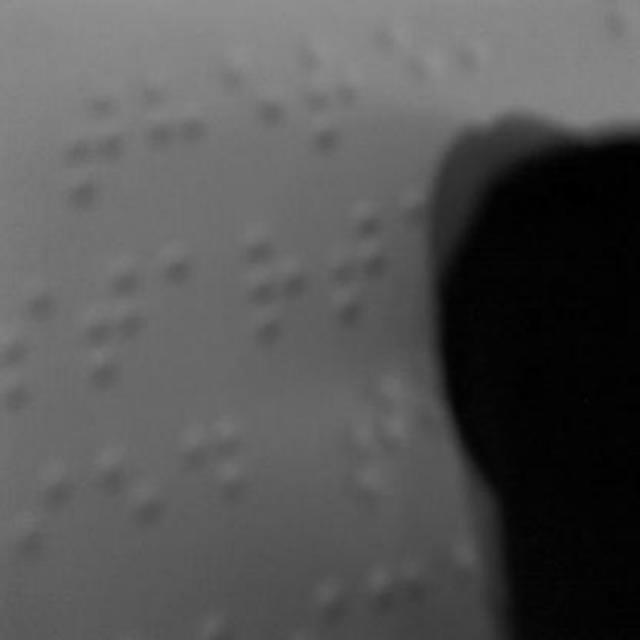braiile: (11, 456, 81, 602), (136, 59, 208, 195), (92, 436, 162, 574), (346, 365, 412, 509), (179, 401, 245, 541), (241, 216, 307, 356), (304, 31, 374, 158), (223, 46, 290, 174), (328, 195, 389, 335), (61, 85, 125, 218), (160, 234, 223, 366), (1, 278, 62, 407), (84, 262, 144, 388)
